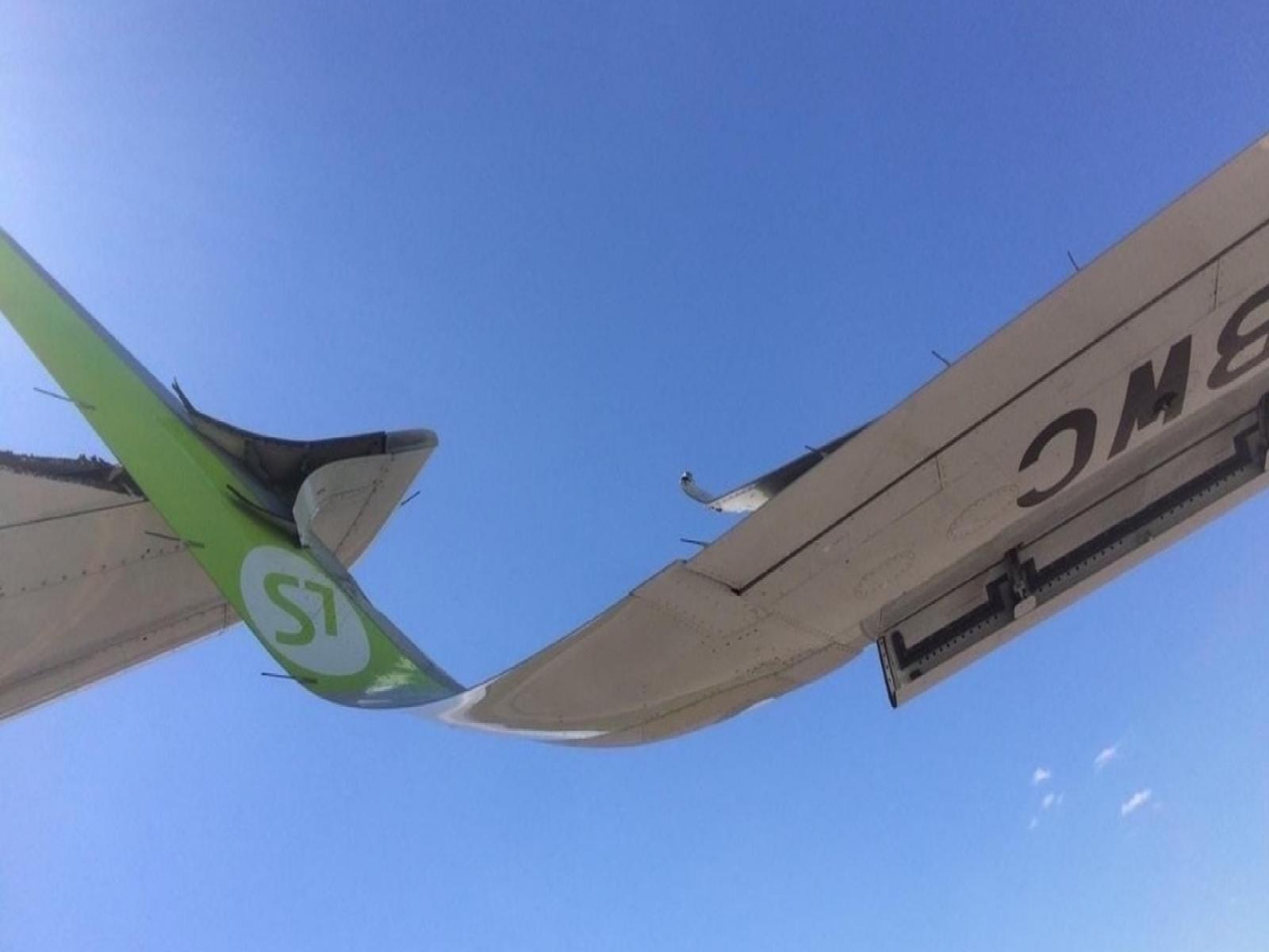Wing_damage: (0, 450, 245, 720), (198, 414, 434, 624)
